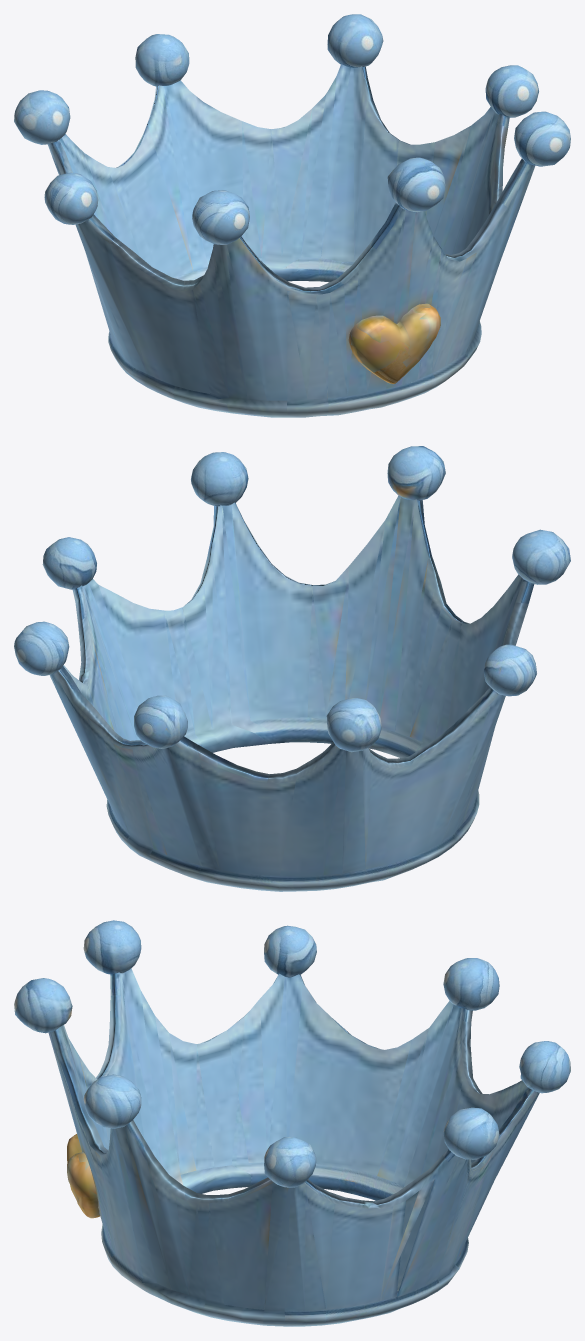
3 views of the same model, one above another, from view 1: azimuth 30°, elevation 25°; view 2: azimuth 150°, elevation 25°; view 3: azimuth 270°, elevation 25° (orthographic).
Size of the model in its own units: 0.9497 by 0.5254 by 0.957.
Materials: 1 (1 with a texture image).
